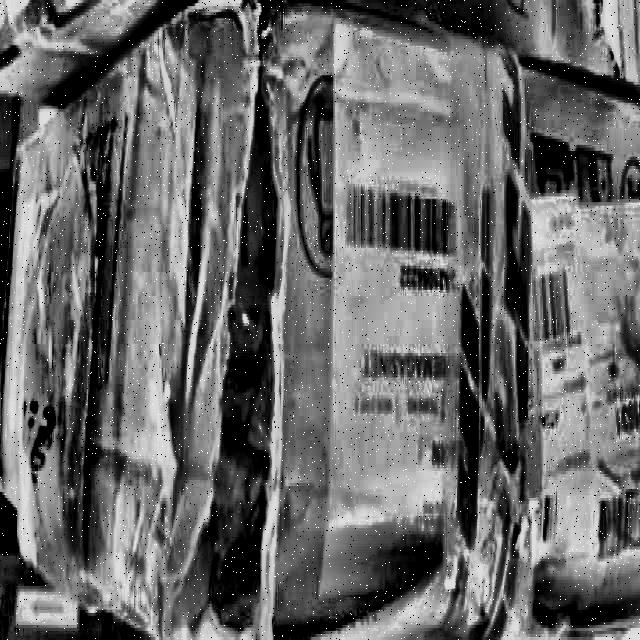box: (4, 2, 638, 639)
hole: (171, 58, 287, 640)
